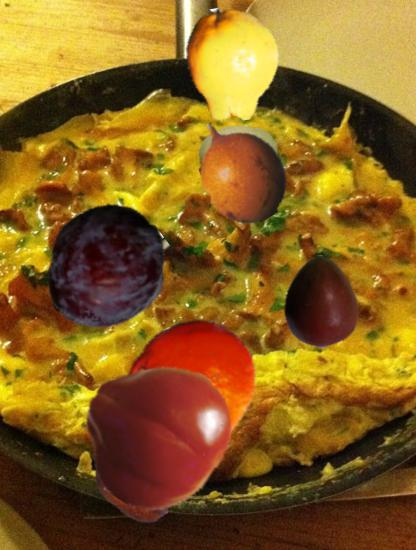Clementine: (117, 311, 265, 459)
Granadilla: (184, 114, 296, 226)
Mango: (275, 255, 368, 348)
Nut: (90, 445, 176, 531)
Pear: (197, 113, 285, 201)
Plum: (40, 202, 170, 332)
Quince: (176, 6, 292, 122)
Tomato: (80, 358, 230, 508)
